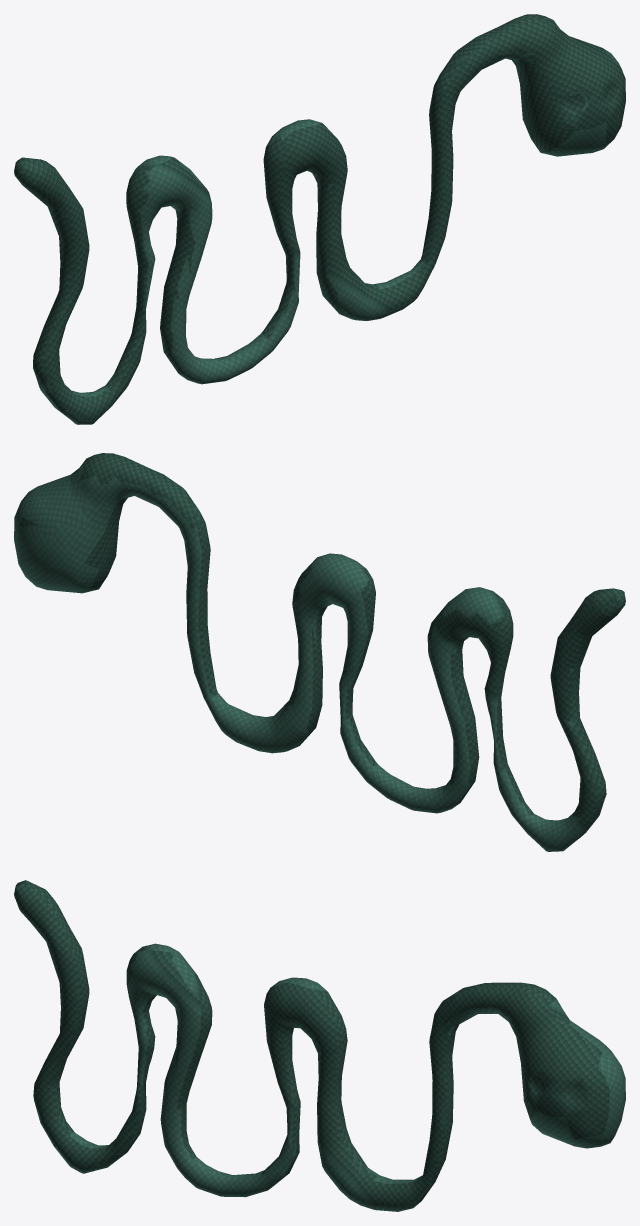
Rendered from snake_new.glb.
3 views of the same model, one above another, from view 1: azimuth 30°, elevation 25°; view 2: azimuth 150°, elevation 25°; view 3: azimuth 330°, elevation 25° (orthographic).
Visible parts, largest first — view 1: snake-body; view 2: snake-body; view 3: snake-body.
Part boxes in pixels (box(x1,y1,x2,y2)): snake-body: box(14, 14, 625, 424); snake-body: box(14, 453, 625, 851); snake-body: box(14, 880, 625, 1211).
Bounding box in the file's own units: 9.66 × 4.48 × 1.22.
1 material, 1 textured.
